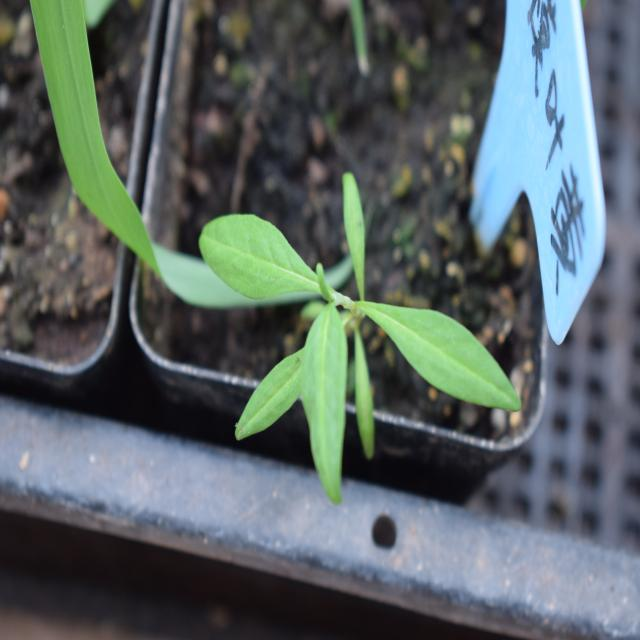white_smart_weed: (194, 178, 510, 496)
